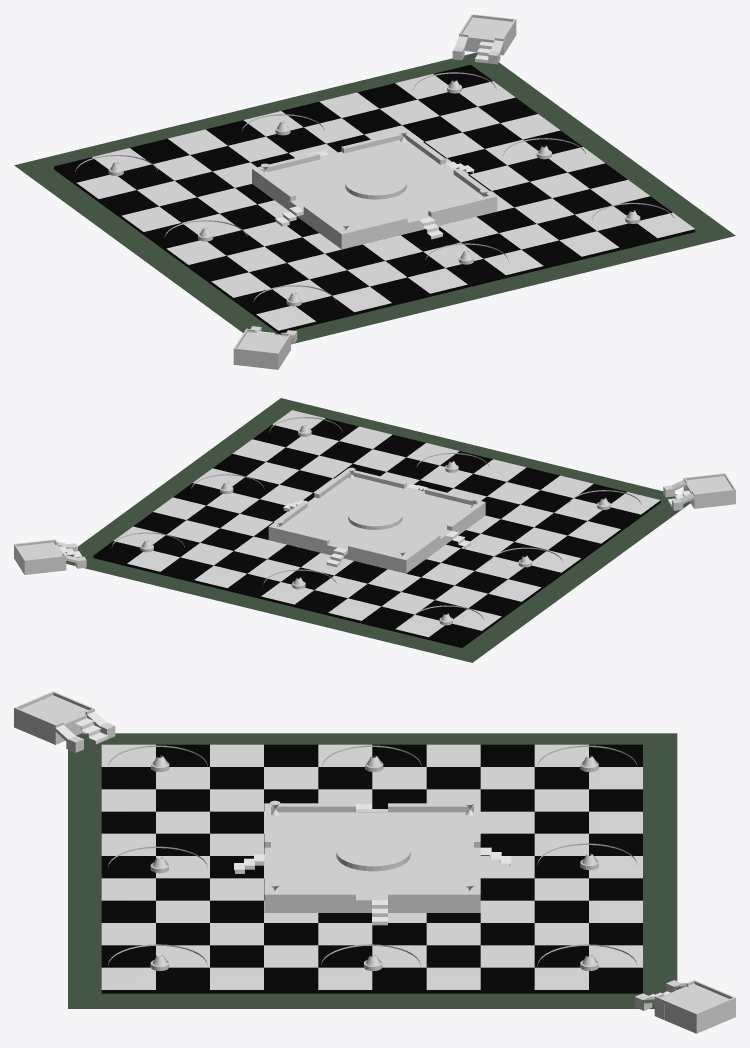
The model's file is 3D_Map3_MP.gltf.
The picture shows the model from 3 angles, top to bottom: view 1: azimuth 30°, elevation 25°; view 2: azimuth 150°, elevation 25°; view 3: azimuth 270°, elevation 25°; orthographic projection. The views are drawn at different scales.
Visible parts, largest first — view 1: Chess, Board, Stage, Cube.005, MidStage, Cube.002; view 2: Chess, Board, Stage, Cube.002, Cube.005, MidStage; view 3: Chess, Board, Stage, Cube.002, Cube.005, MidStage.
Part boxes in pixels (<box>): Chess: <box>54,64,695,333</box>; Board: <box>14,52,735,344</box>; Stage: <box>252,131,497,249</box>; Cube.005: <box>233,328,290,369</box>; MidStage: <box>345,169,406,199</box>; Cube.002: <box>459,14,516,55</box>; Chess: <box>93,410,660,647</box>; Board: <box>66,398,690,662</box>; Stage: <box>268,469,485,573</box>; Cube.002: <box>14,539,66,574</box>; Cube.005: <box>683,473,735,508</box>; MidStage: <box>348,503,402,529</box>; Chess: <box>101,744,642,993</box>; Board: <box>68,733,677,1008</box>; Stage: <box>264,803,480,912</box>; Cube.002: <box>655,980,735,1033</box>; Cube.005: <box>14,691,94,744</box>; MidStage: <box>336,835,410,871</box>.
Size of the model in its own units: 83.09 by 3.35 by 78.47.
